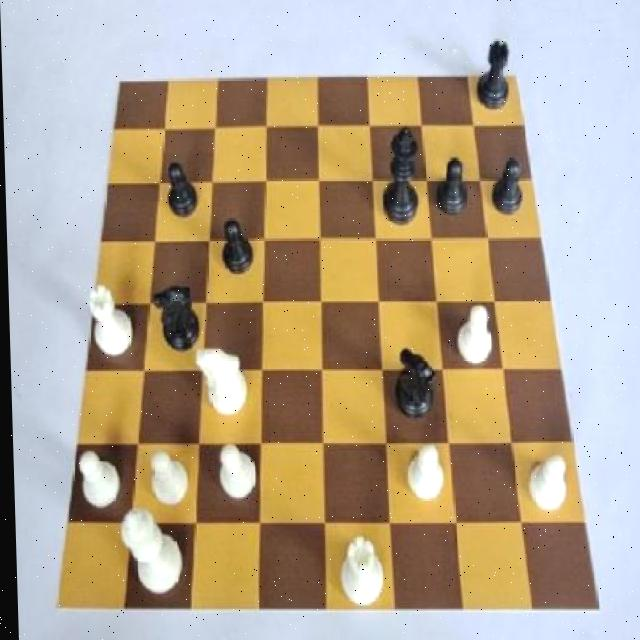black-bishop: (378, 123, 423, 233)
black-king: (385, 348, 438, 428), (150, 280, 200, 362)
black-knight: (159, 158, 202, 228), (487, 154, 529, 221), (433, 155, 471, 228), (213, 211, 253, 279)
black-queen: (473, 40, 516, 108)
white-bishop: (118, 509, 186, 603)
white-king: (192, 341, 250, 424)
white-knight: (207, 438, 261, 506), (447, 303, 500, 369), (72, 444, 124, 510), (395, 443, 450, 505), (520, 452, 571, 518), (144, 451, 186, 514)
white-queen: (330, 524, 391, 608), (82, 281, 138, 367)
